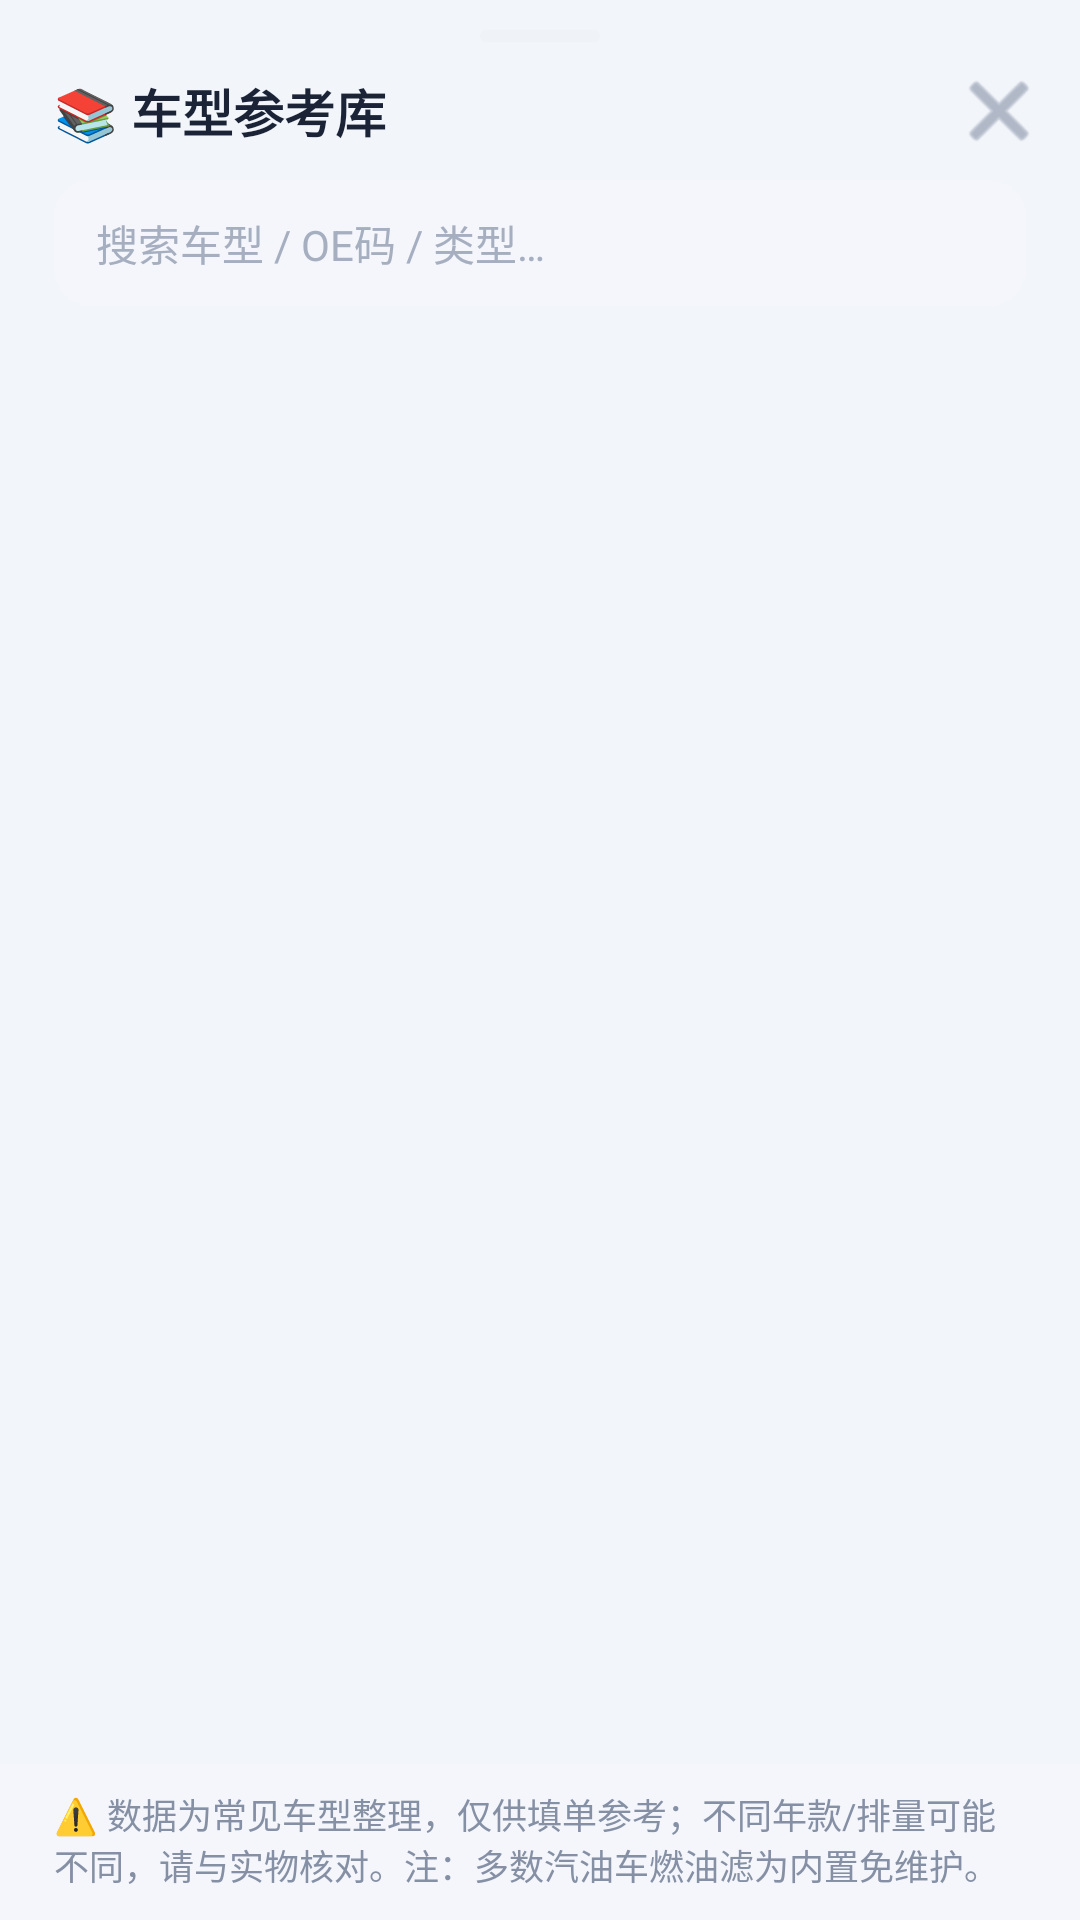

Screen size 1080 x 1920. Icon name, then its center in pixels as (x=x, y=y):
关闭: (x=999, y=111)
